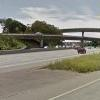Bridge: (13, 24, 96, 44)
